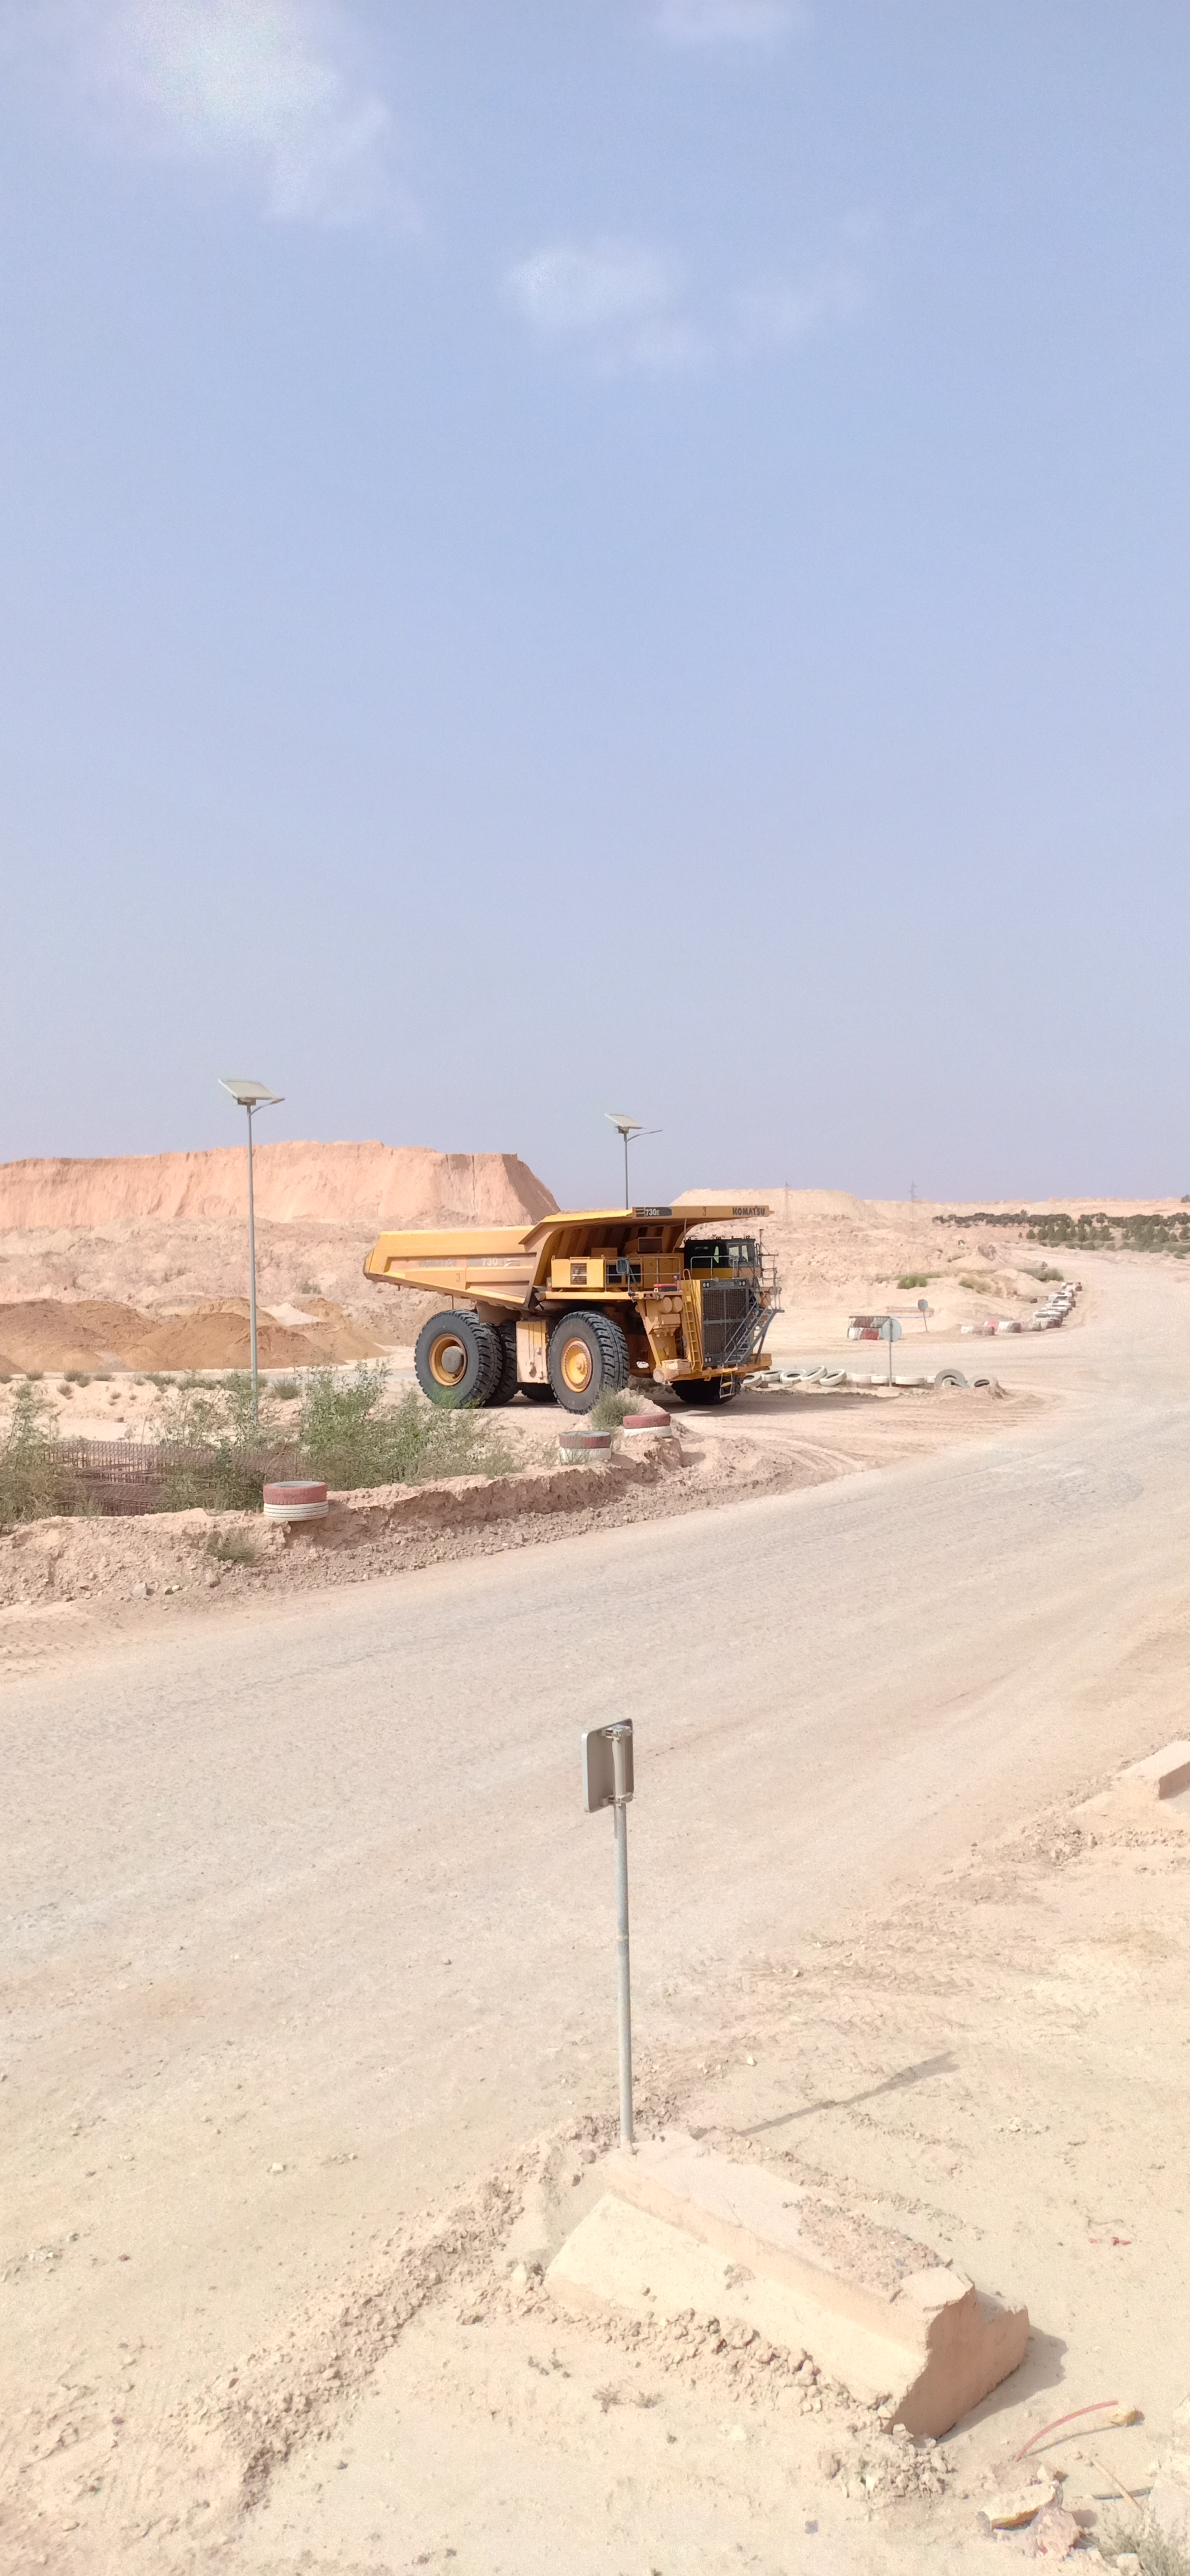camion: (342, 1185, 797, 1441)
